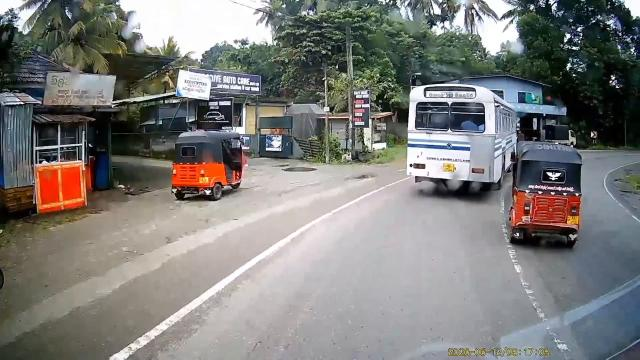illegal overtaking: (510, 133, 585, 249)
